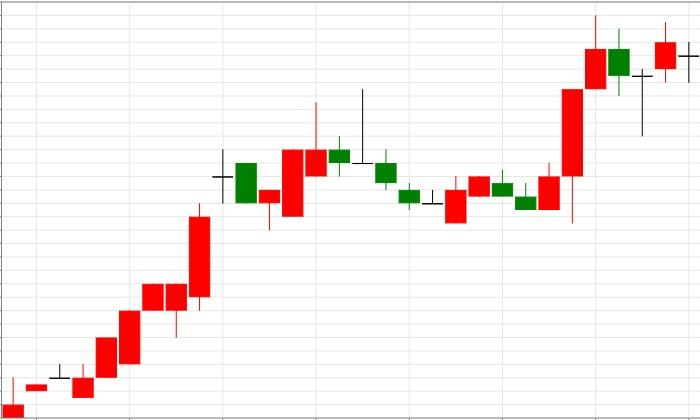three_white_soldiers_rise: (468, 14, 606, 225)
